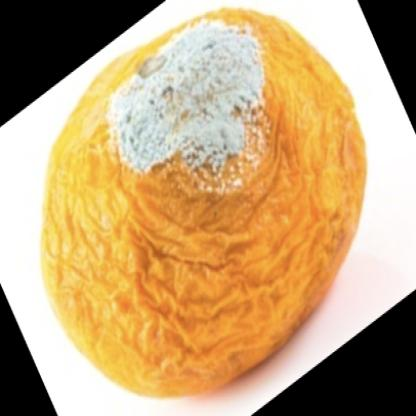rotten: (45, 11, 366, 399)
